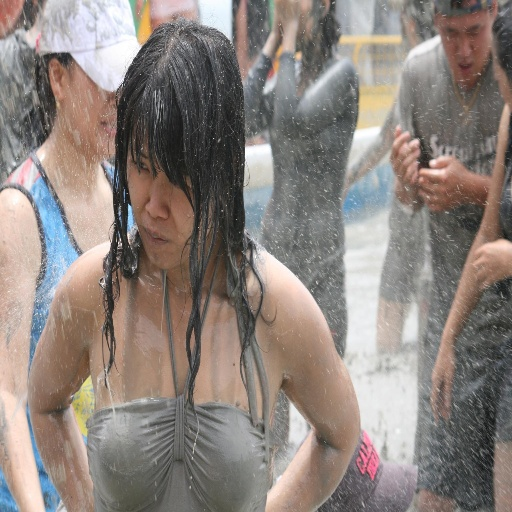hand: (418, 152, 466, 213), (388, 123, 420, 192), (472, 238, 511, 292), (431, 344, 456, 425), (277, 0, 303, 27), (272, 7, 284, 33)
